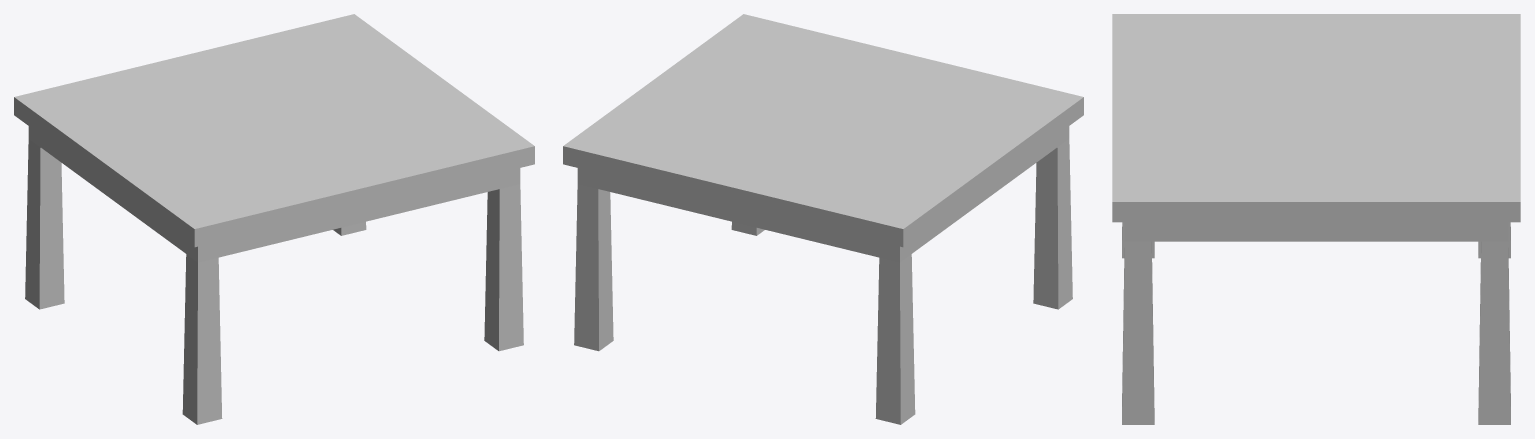
The model's file is Table.glb.
3 views of the same model, side by side, from view 1: azimuth 30°, elevation 25°; view 2: azimuth 150°, elevation 25°; view 3: azimuth 270°, elevation 25° (orthographic). The views are drawn at different scales.
Visible parts, largest first — view 1: Table; view 2: Table; view 3: Table.
Boxes of the visible parts, left/top/right/bottom form: Table: left=14, top=14, right=534, bottom=424; Table: left=563, top=14, right=1083, bottom=424; Table: left=1112, top=14, right=1520, bottom=424.
Size of the model in its own units: 1.11 by 0.6228 by 1.02.
2 materials, 2 textured.
